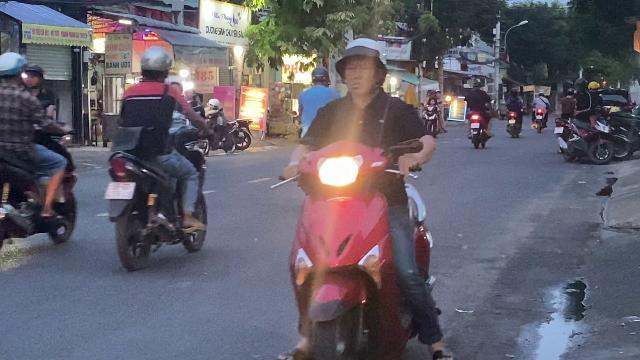helmet: (332, 36, 392, 103), (136, 46, 172, 82), (0, 50, 28, 84)
licenseplate: (104, 182, 136, 198)
motorcyclist: (272, 35, 466, 356), (100, 44, 210, 272), (0, 48, 76, 281)
